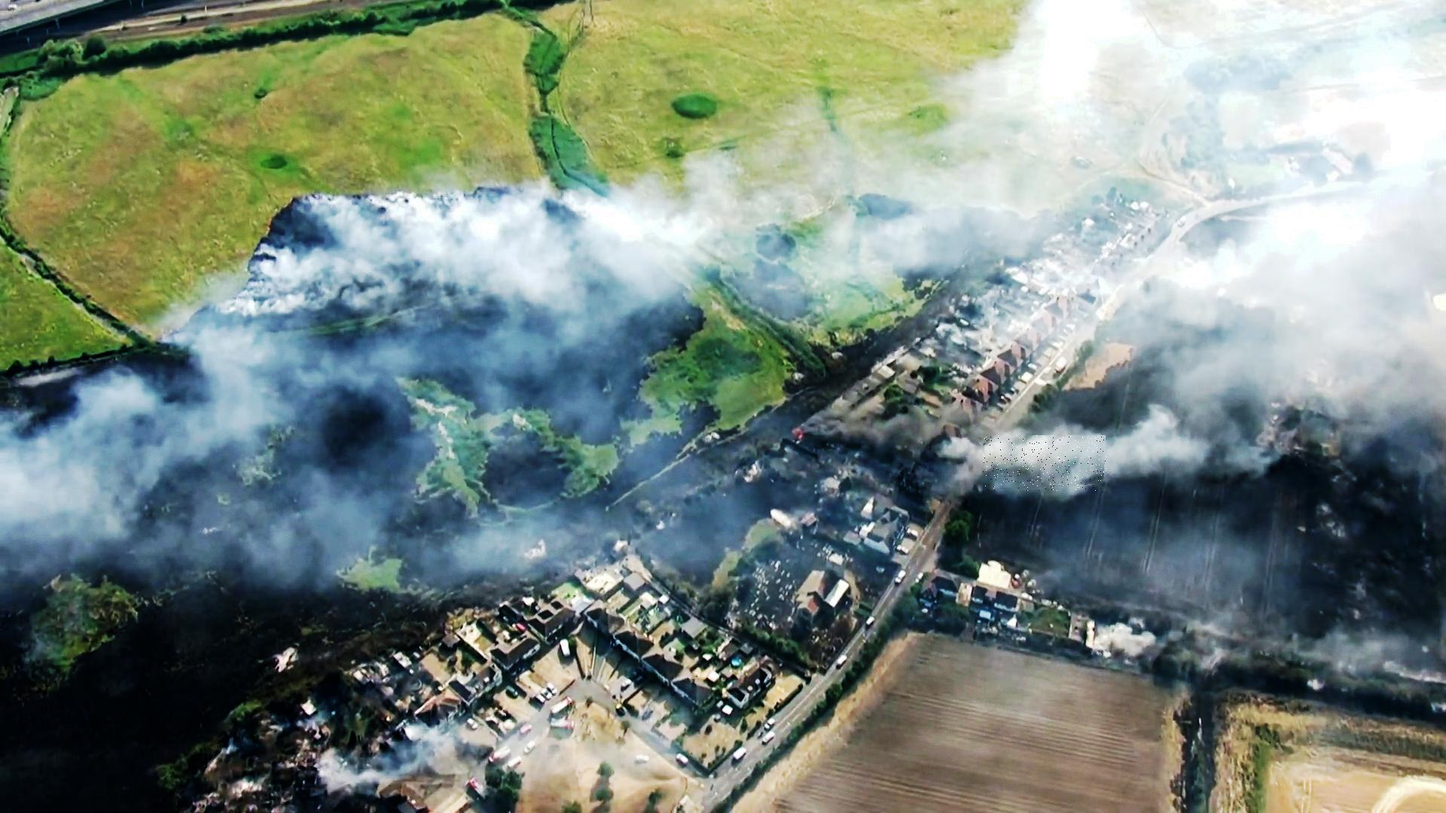smoke: (983, 435, 1106, 491)
